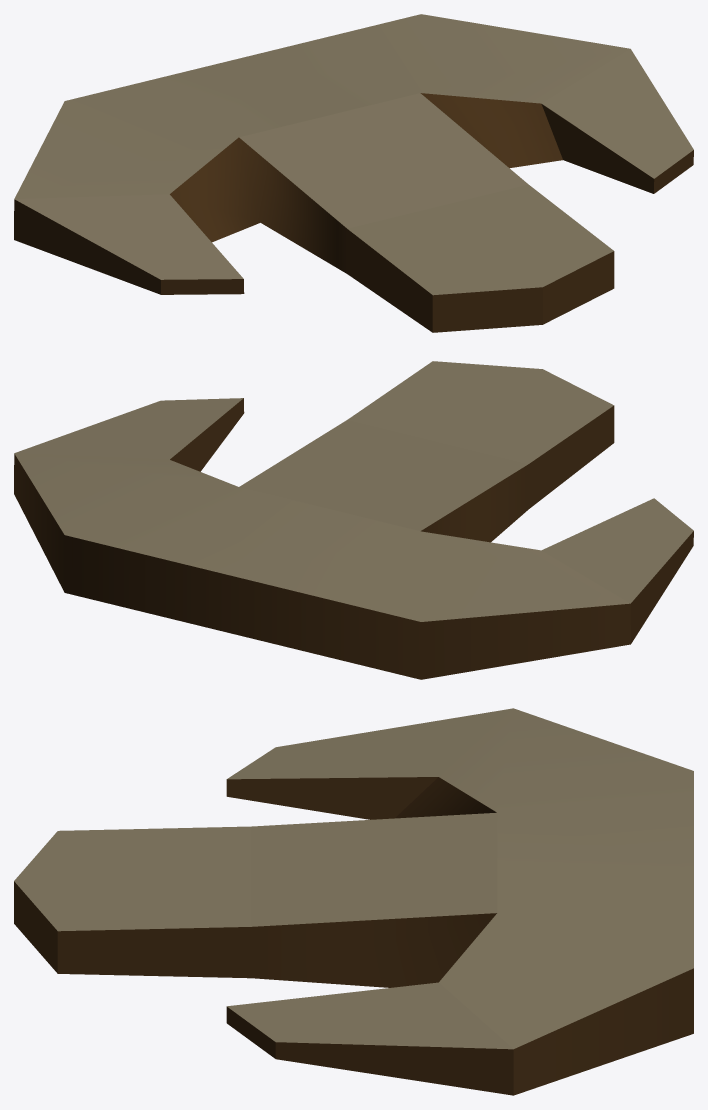
The model's file is Mushroom.fbx.
3 renders of one model, top to bottom at view 1: azimuth 30°, elevation 25°; view 2: azimuth 150°, elevation 25°; view 3: azimuth 270°, elevation 25°, orthographic. The views are drawn at different scales.
Visible parts, largest first — view 1: Mushroom; view 2: Mushroom; view 3: Mushroom.
Part boxes in pixels (x1,y1,x2,y2): Mushroom: (14,14,693,332); Mushroom: (14,361,693,679); Mushroom: (14,708,693,1095).
Bounding box in the file's own units: 0.5471 × 0.059 × 0.4607.
